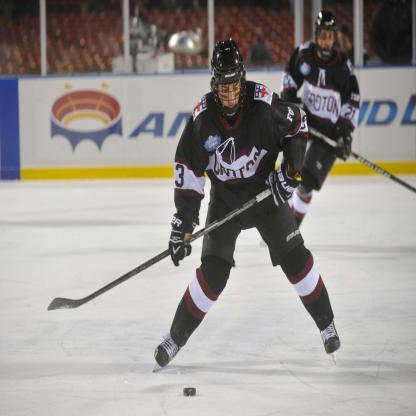Helmet: (210, 38, 250, 122), (314, 9, 338, 62)
